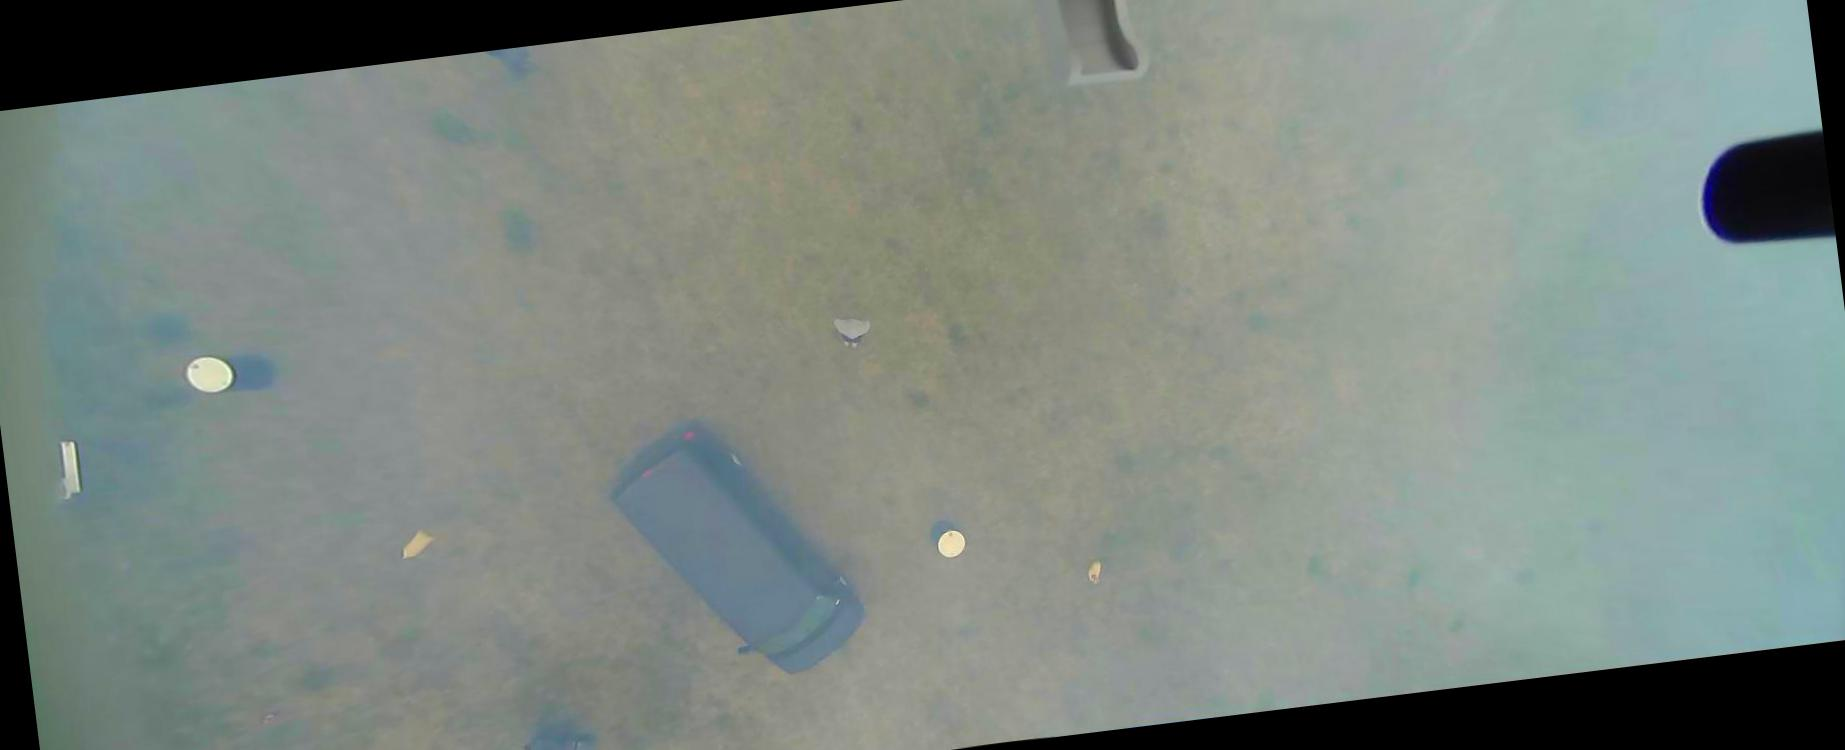vehicle: (599, 409, 871, 701)
